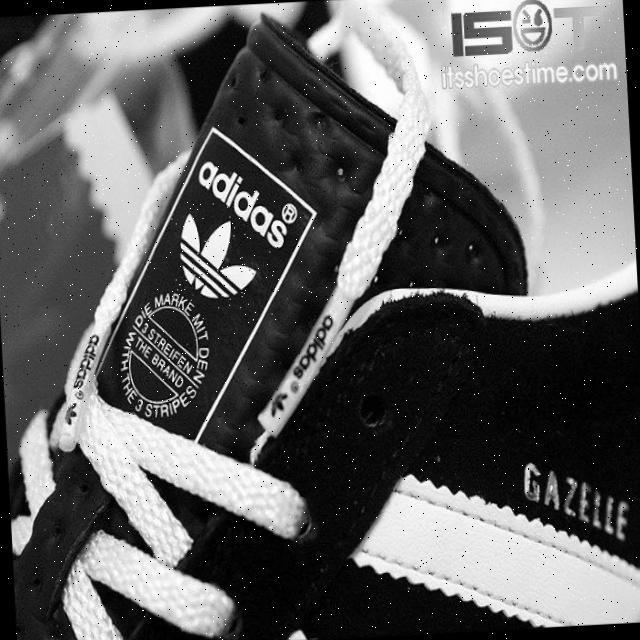Adidas: (171, 200, 274, 325)
